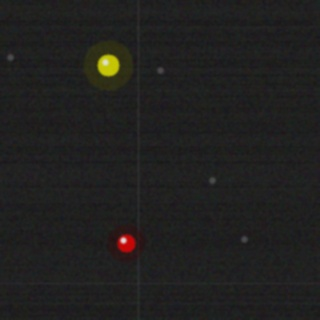red_fault: (115, 232, 137, 254)
yellow_warning: (95, 52, 121, 78)
